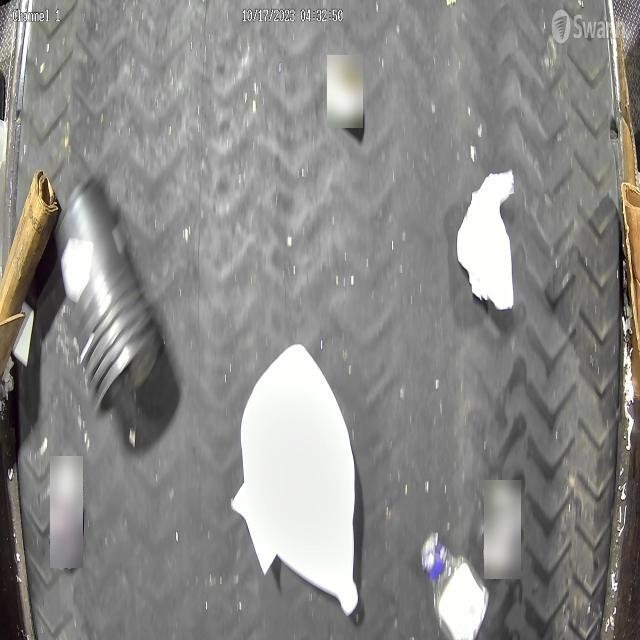milk_jug: (236, 340, 358, 620)
plastic_bottle: (420, 528, 490, 640)
